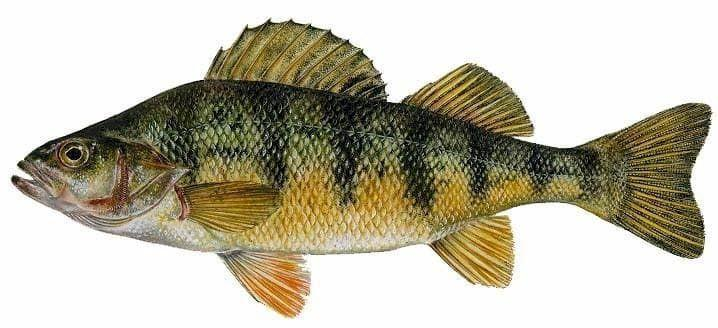Perch: (10, 25, 712, 322)
